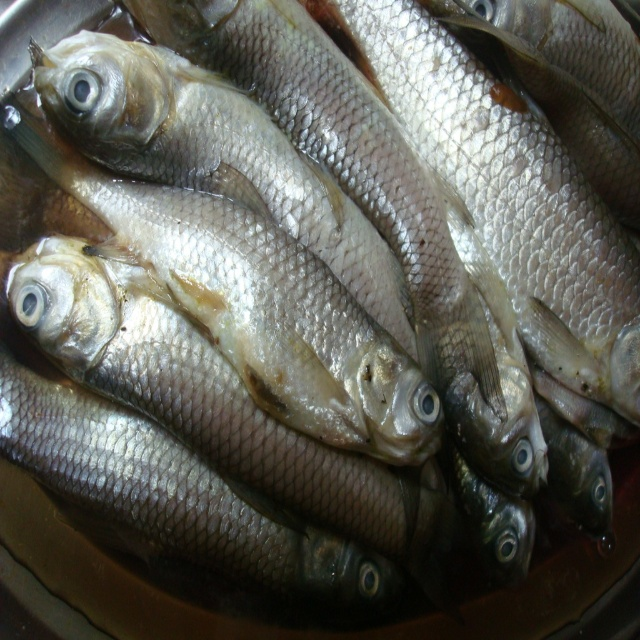Fish: (0, 0, 640, 626)
